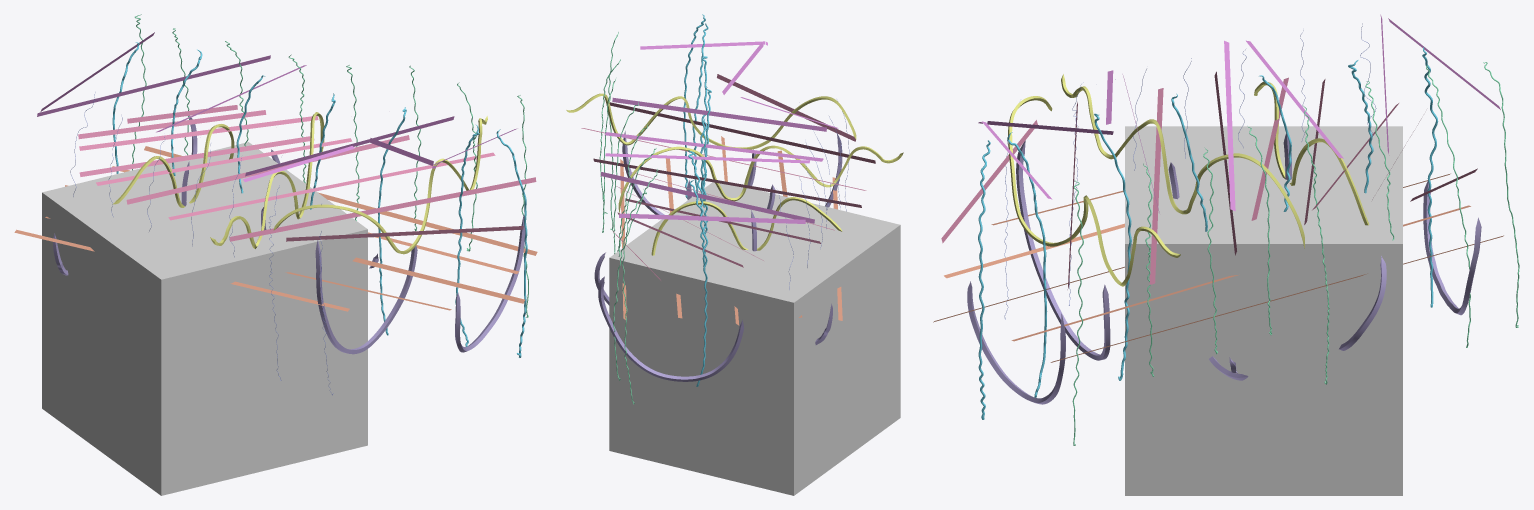
The picture shows the model from 3 angles, left to right: view 1: azimuth 30°, elevation 25°; view 2: azimuth 150°, elevation 25°; view 3: azimuth 270°, elevation 25°; orthographic projection. The views are drawn at different scales.
Parts seen in each view (by area): view 1: Cube, brush_CelVinyl_g0_b0, brush_Lofted_g0_b0, brush_Toon_g0_b0; view 2: Cube, brush_CelVinyl_g0_b0, brush_Lofted_g0_b0, brush_Toon_g0_b0; view 3: Cube, brush_Lofted_g0_b0, brush_CelVinyl_g0_b0, brush_Toon_g0_b0.
Part boxes in pixels (bbox=[...]): Cube: bbox=[42, 142, 367, 495]; brush_CelVinyl_g0_b0: bbox=[14, 32, 537, 311]; brush_Lofted_g0_b0: bbox=[53, 112, 525, 354]; brush_Toon_g0_b0: bbox=[70, 14, 528, 395]; Cube: bbox=[609, 182, 900, 495]; brush_CelVinyl_g0_b0: bbox=[581, 41, 875, 325]; brush_Lofted_g0_b0: bbox=[566, 93, 903, 381]; brush_Toon_g0_b0: bbox=[599, 14, 849, 404]; Cube: bbox=[1125, 126, 1402, 495]; brush_Lofted_g0_b0: bbox=[967, 74, 1481, 404]; brush_CelVinyl_g0_b0: bbox=[933, 14, 1503, 362]; brush_Toon_g0_b0: bbox=[978, 23, 1519, 445].
Bounding box in the file's own units: 379 × 316 × 422.
